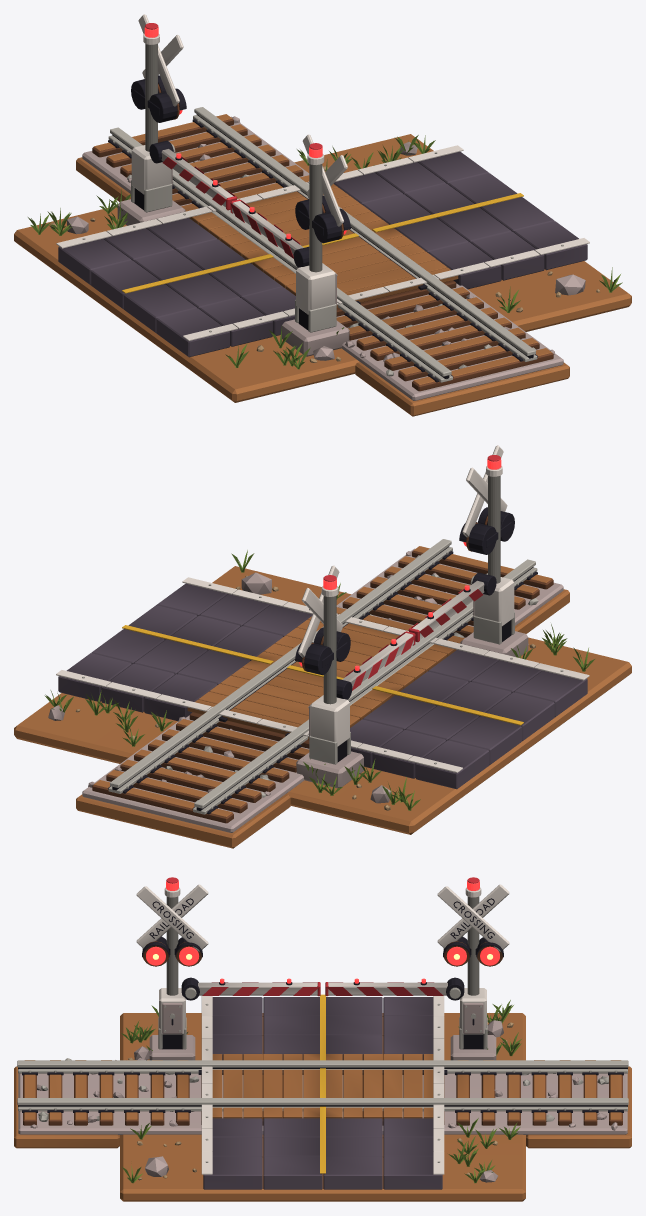
3 views of the same model, one above another, from view 1: azimuth 30°, elevation 25°; view 2: azimuth 150°, elevation 25°; view 3: azimuth 270°, elevation 25° (orthographic). The views are drawn at different scales.
Visible parts, largest first — view 1: root_pal_woodWarm, root_pal_asphalt, root_pal_silver, root_pal_picketWhite, root_pal_sidewalk, root_pal_leatherShadow, root_pal_uiDark, root_pal_schoolBusYellow, root_pal_foliage, root_pal_grass, gateR_pal_picketWhite, gateL_pal_picketWhite (+2 smaller); view 2: root_pal_woodWarm, root_pal_asphalt, root_pal_silver, root_pal_picketWhite, root_pal_sidewalk, root_pal_leatherShadow, root_pal_uiDark, root_pal_foliage, root_pal_schoolBusYellow, root_pal_grass, gateL_pal_picketWhite, gateR_pal_picketWhite (+2 smaller); view 3: root_pal_woodWarm, root_pal_asphalt, root_pal_silver, root_pal_sidewalk, root_pal_picketWhite, root_pal_uiDark, root_pal_leatherShadow, root_pal_foliage, root_pal_grass, gateL_pal_picketWhite, gateR_pal_picketWhite, root_pal_schoolBusYellow (+4 smaller).
Part boxes in pixels (x1,y1,x2,y2): root_pal_woodWarm: (14,114,631,416); root_pal_asphalt: (58,151,587,357); root_pal_silver: (82,44,563,382); root_pal_picketWhite: (56,14,589,340); root_pal_sidewalk: (67,116,585,400); root_pal_leatherShadow: (92,83,553,391); root_pal_uiDark: (108,75,537,382); root_pal_schoolBusYellow: (122,193,523,293); root_pal_foliage: (30,136,620,369); root_pal_grass: (28,135,622,369); gateR_pal_picketWhite: (161,149,233,207); gateL_pal_picketWhite: (232,201,303,255); root_pal_woodWarm: (14,546,631,848); root_pal_asphalt: (58,583,587,789); root_pal_silver: (82,475,563,814); root_pal_picketWhite: (56,445,589,772); root_pal_sidewalk: (48,548,563,832); root_pal_leatherShadow: (92,515,553,823); root_pal_uiDark: (108,507,537,814); root_pal_foliage: (45,550,594,810); root_pal_schoolBusYellow: (122,625,523,725); root_pal_grass: (44,553,587,810); gateL_pal_picketWhite: (412,580,484,639); gateR_pal_picketWhite: (342,633,413,687); root_pal_woodWarm: (14,1013,631,1201); root_pal_asphalt: (203,997,442,1189); root_pal_silver: (17,896,628,1162); root_pal_sidewalk: (18,1003,627,1182); root_pal_picketWhite: (136,884,509,1174); root_pal_uiDark: (18,898,627,1112); root_pal_leatherShadow: (23,941,622,1125); root_pal_foliage: (121,1004,521,1183); root_pal_grass: (126,1000,519,1182); gateL_pal_picketWhite: (198,982,317,995); gateR_pal_picketWhite: (328,982,447,995); root_pal_schoolBusYellow: (320,994,325,1173).
Bounding box in the file's own units: 7.43 × 3.74 × 10.8.
